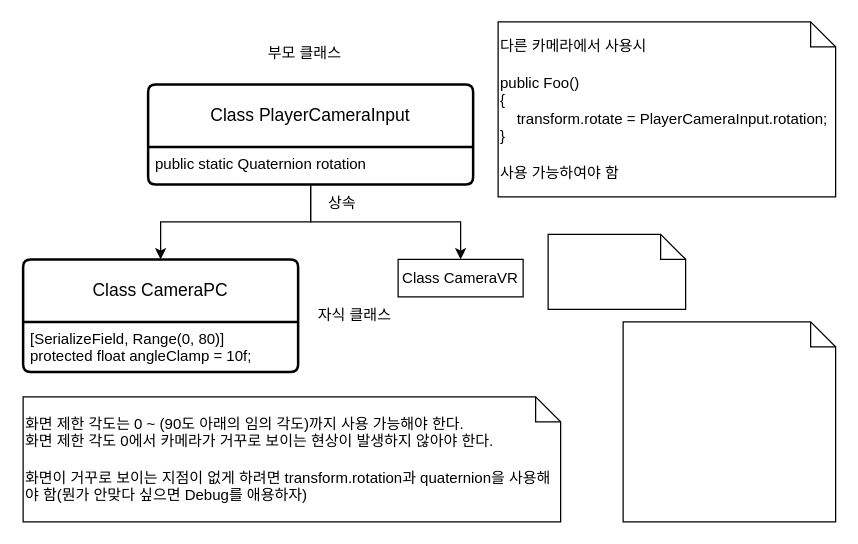
Image size: 858x544. Some labels were removed from this diagram. The shapes that lost their labels are listed below. From the top down, each one's centre as x and y in pixels, then its label:
At (616,271): "< 빈공간으로 보류".
At (729,421): "부모 클래스 구현 자식 클래스 pc 구현 자식 클래스 vr 선언만(껍데기) 목표기한 5일".
